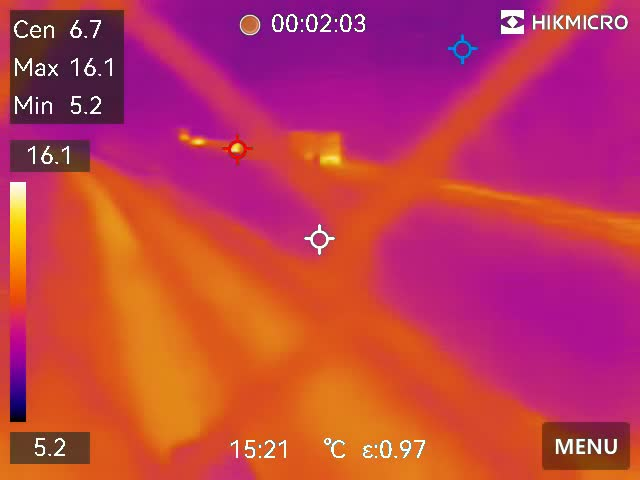heavyTruck: (275, 127, 342, 167)
